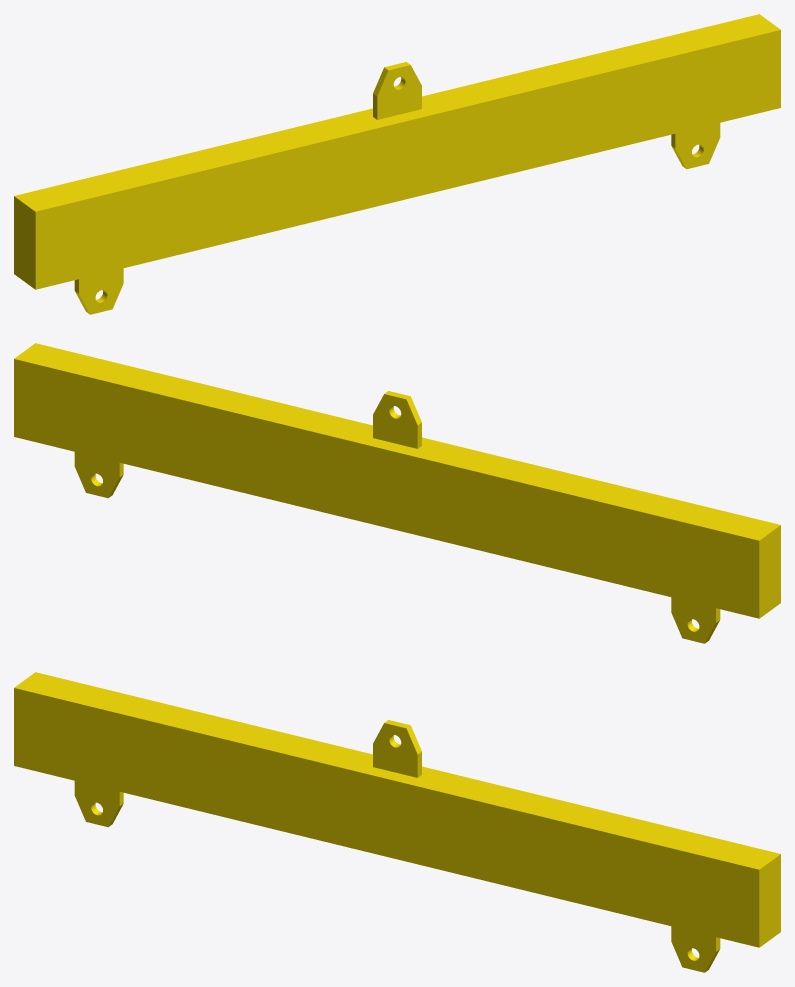
The model's file is traverse-crane-2000.glb.
3 renders of one model, top to bottom at view 1: azimuth 30°, elevation 25°; view 2: azimuth 150°, elevation 25°; view 3: azimuth 330°, elevation 25°, orthographic.
Parts seen in each view (by area): view 1: body; view 2: body; view 3: body.
Part boxes in pixels (<box>): body: <box>14,14,780,314</box>; body: <box>14,343,780,643</box>; body: <box>14,672,780,972</box>.
Size of what is drawn, in the model's own units: 2 by 0.44 by 0.1.
